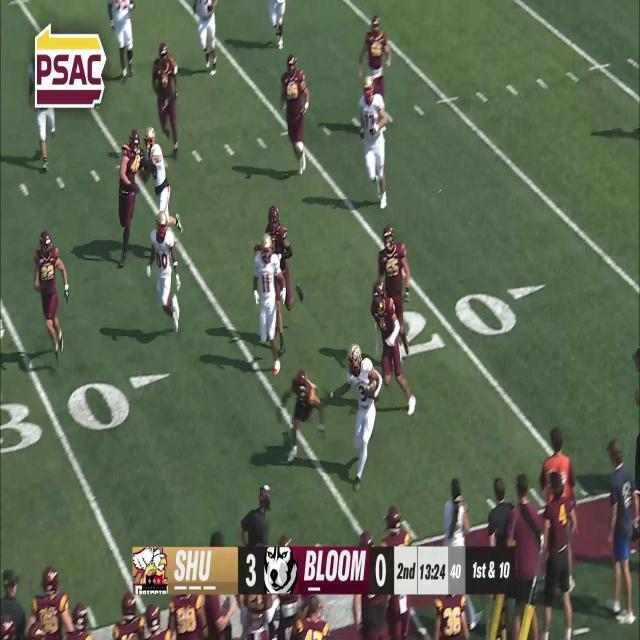football: (363, 380, 377, 398)
